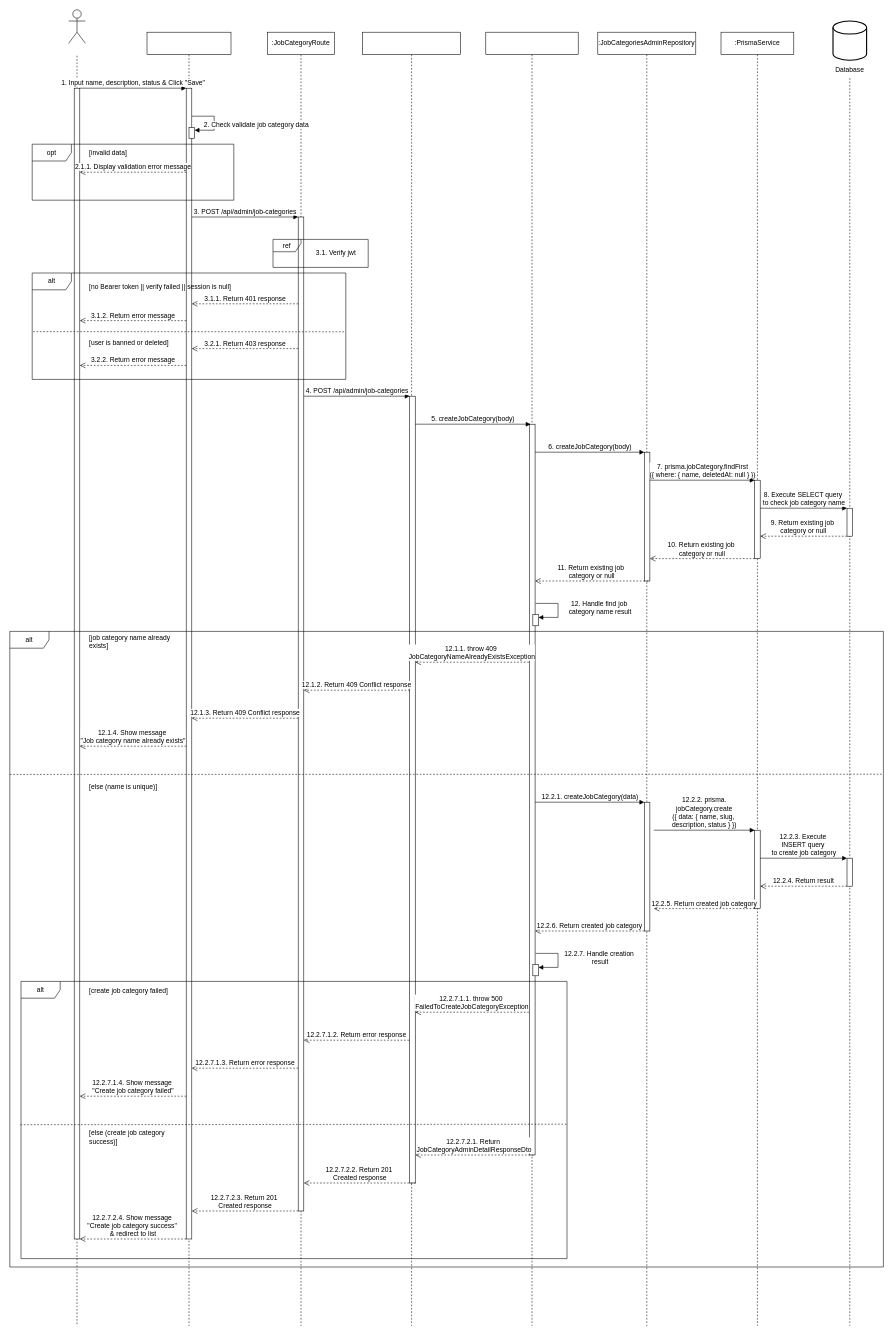
The diagram is 894 pixels wide and 1336 high, and some of its shapes have lost their labels. The box of each missing label's shape, as (x1, y1, x2, y2) in pixels:
:JobCategoriesAdminController: (362, 32, 461, 1326)
:JobCategoriesAdminService: (485, 32, 578, 1326)
:JobCategoryView: (146, 32, 231, 1326)
Admin: (68, 9, 85, 43)
